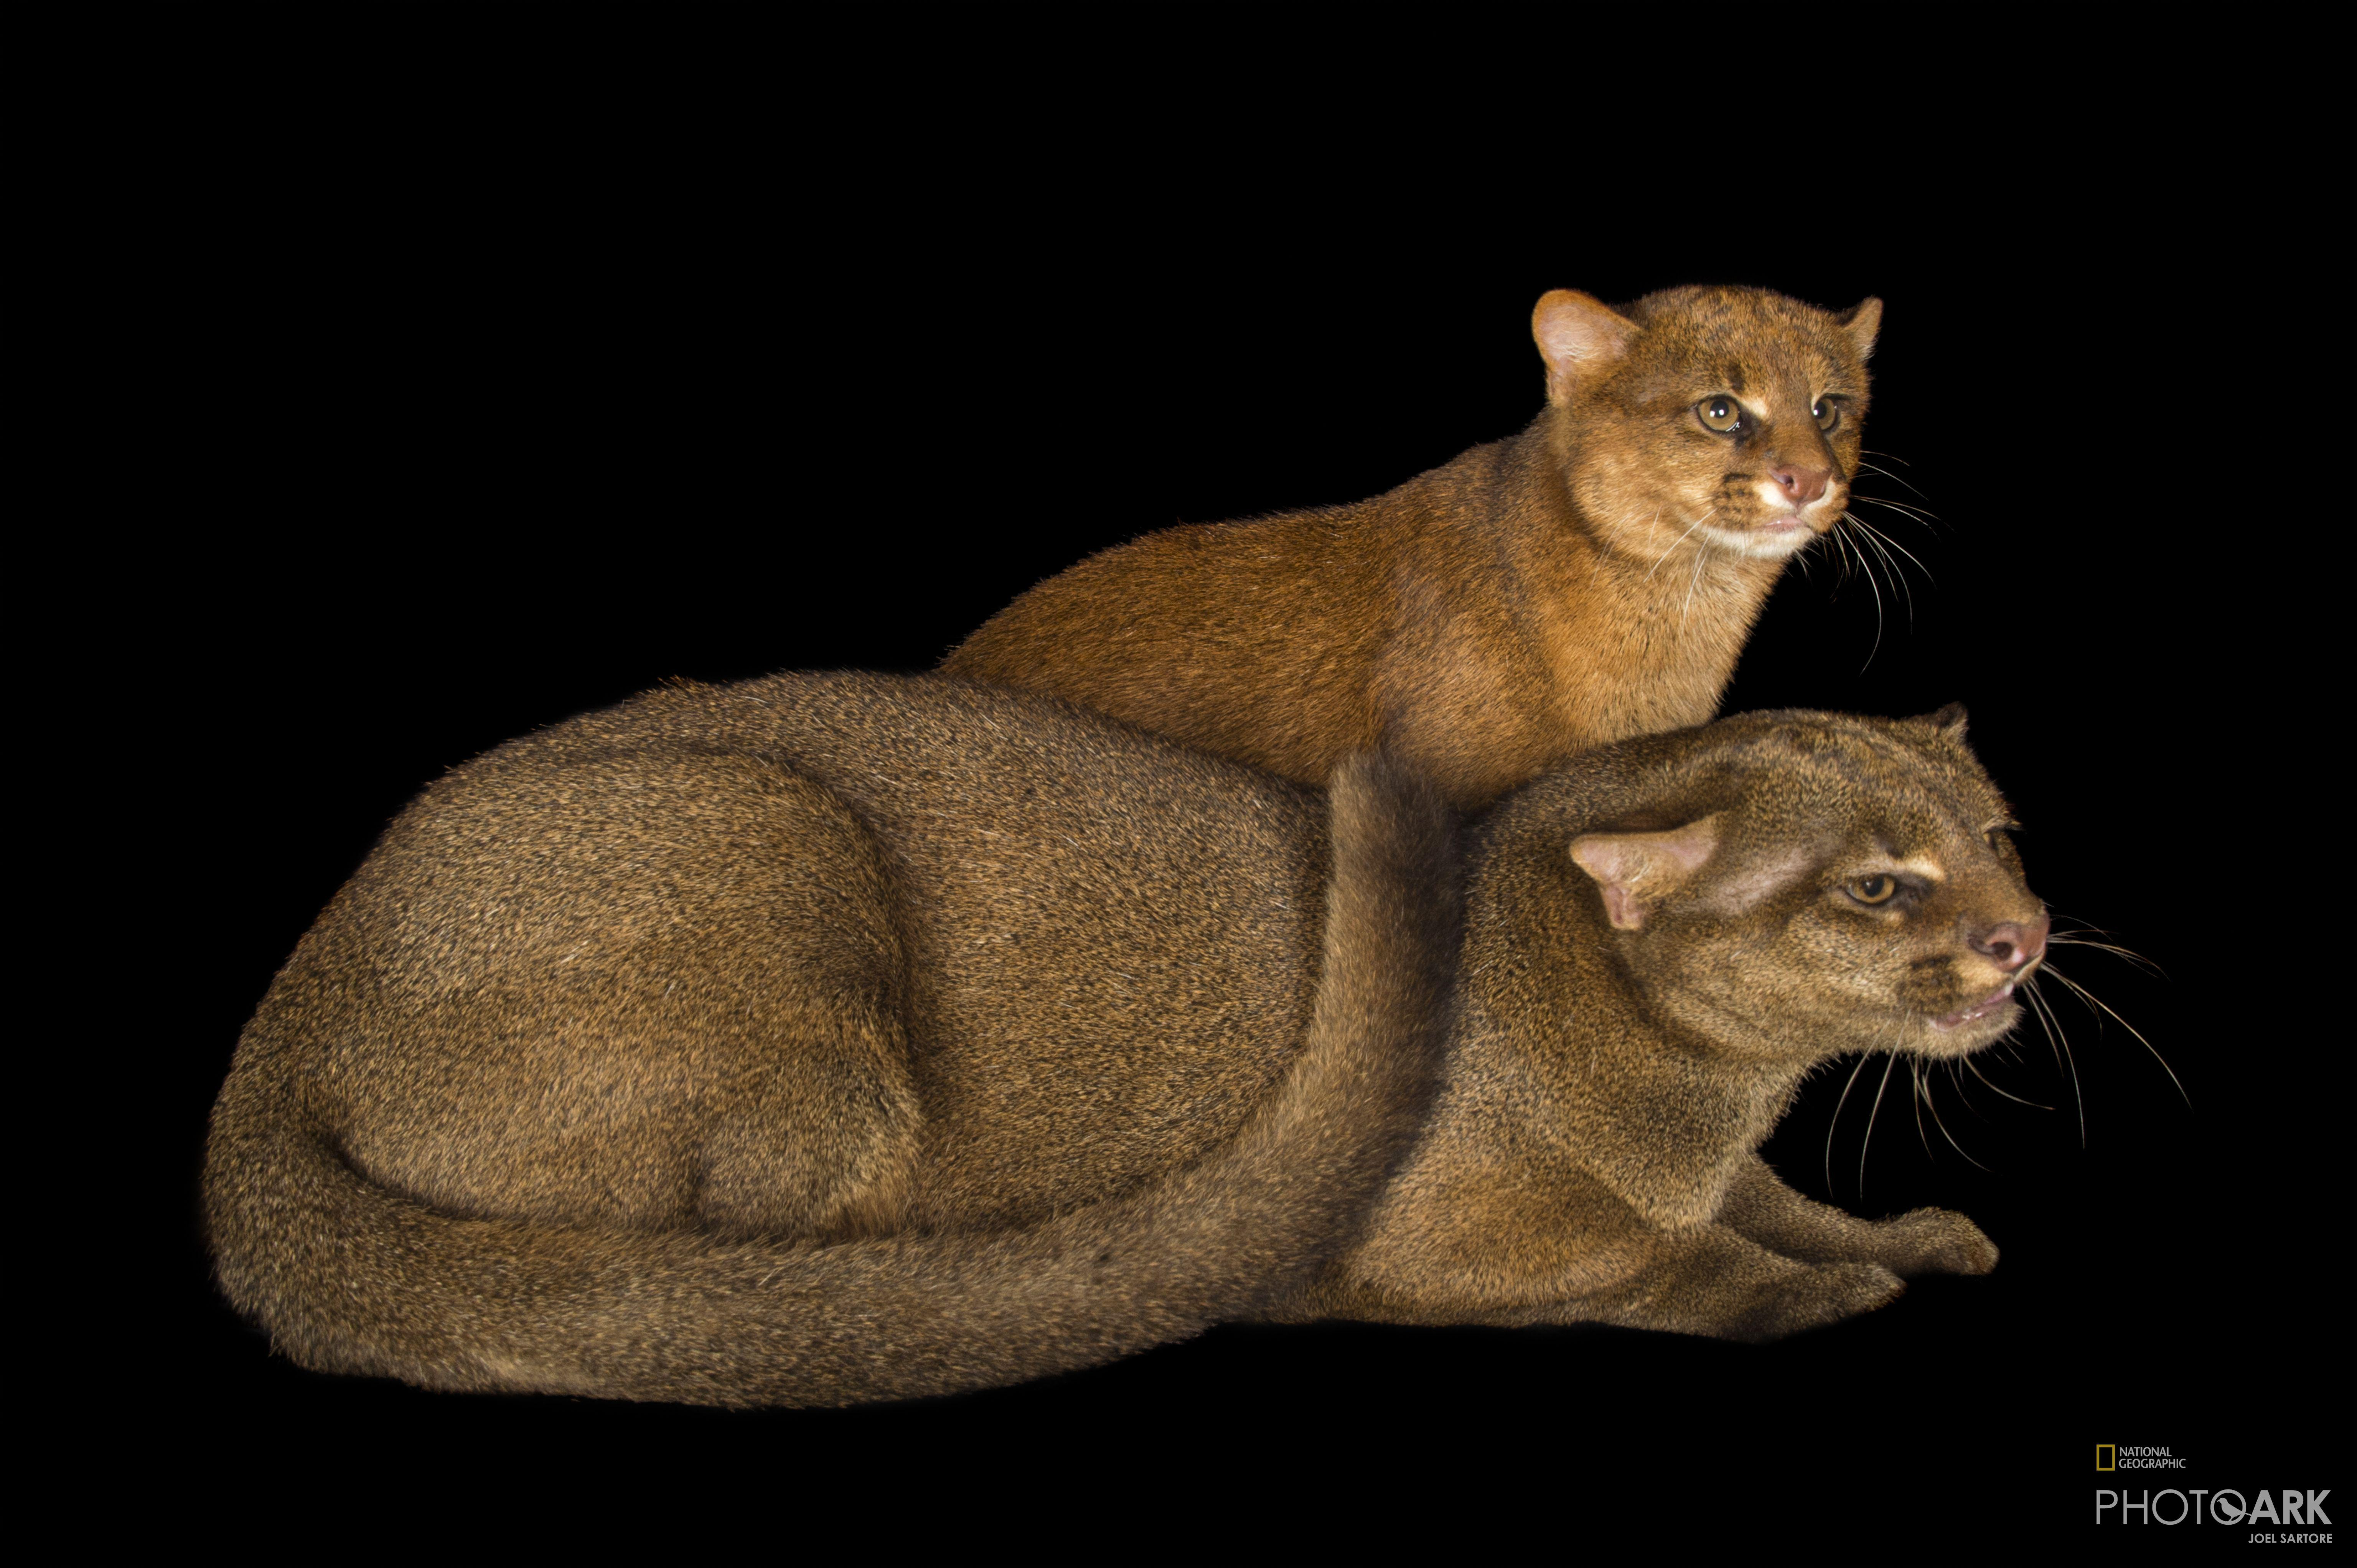Jaguarundi: (133, 637, 2123, 1423), (766, 243, 1902, 777)
